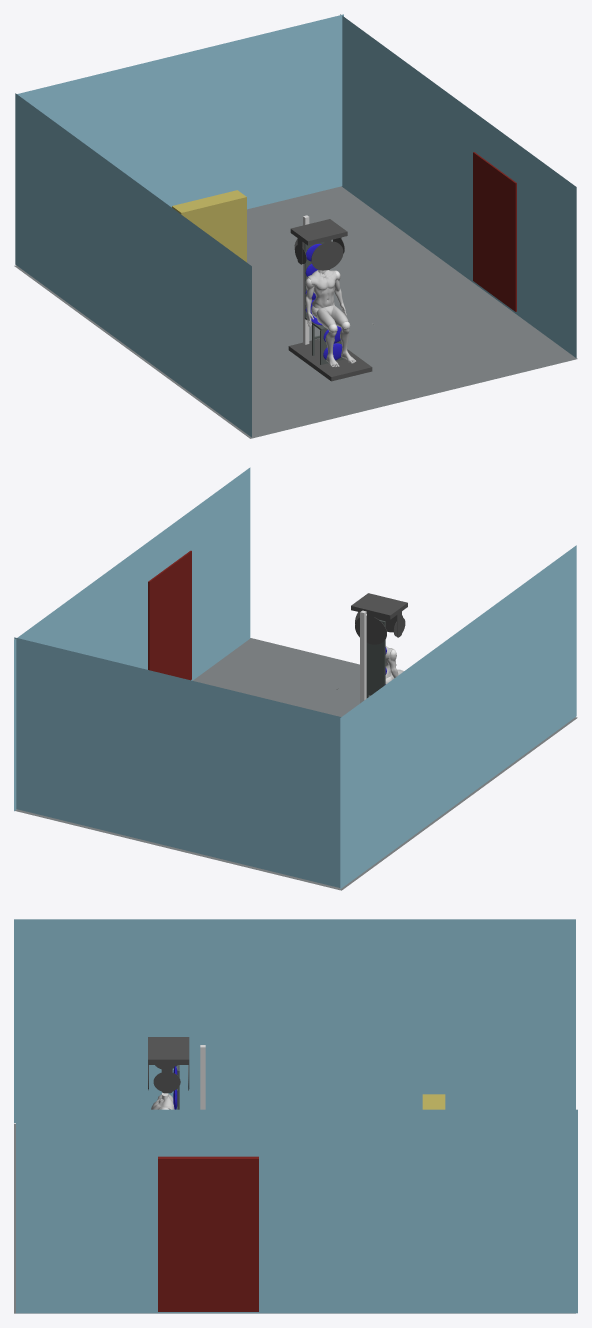
Rendered from cuerposentadocamillados.fbx.
The picture shows the model from 3 angles, top to bottom: view 1: azimuth 30°, elevation 25°; view 2: azimuth 150°, elevation 25°; view 3: azimuth 270°, elevation 25°; orthographic projection. The views are drawn at different scales.
Parts seen in each view (by area): view 1: Plane.001, Plane.003, Plane, Plane.002, Cube.015, Cube.013, arena cuatro blender, Cube.007, Body_M_GeoRndr.002, Body_M_GeoRndr.009; view 2: Plane, Plane.003, Plane.002, Plane.001, Cube.015, arena cuatro blender, Cube.002, Cube.021; view 3: Plane.003, Plane.002, Cube.015, arena cuatro blender, Plane.001.
Boxes of the visible parts, x1,y1,x2,y2 form: Plane.001: (14,186,577,438); Plane.003: (15,93,251,437); Plane: (17,14,343,209); Plane.002: (340,14,576,357); Cube.015: (473,152,516,311); Cube.013: (172,190,246,262); arena cuatro blender: (290,219,347,270); Cube.007: (288,338,372,381); Body_M_GeoRndr.002: (306,270,337,308); Body_M_GeoRndr.009: (325,327,356,367); Plane: (14,637,341,887); Plane.003: (340,545,576,888); Plane.002: (14,467,250,811); Plane.001: (15,638,577,890); Cube.015: (148,550,191,680); arena cuatro blender: (351,593,407,644); Cube.002: (366,620,385,695); Cube.021: (360,610,366,703); Plane.003: (14,919,575,1122); Plane.002: (16,1109,577,1313); Cube.015: (158,1156,258,1311); arena cuatro blender: (148,1037,189,1093); Plane.001: (14,1123,575,1313).
Size of the model in its own units: 809 by 402 by 1004.
